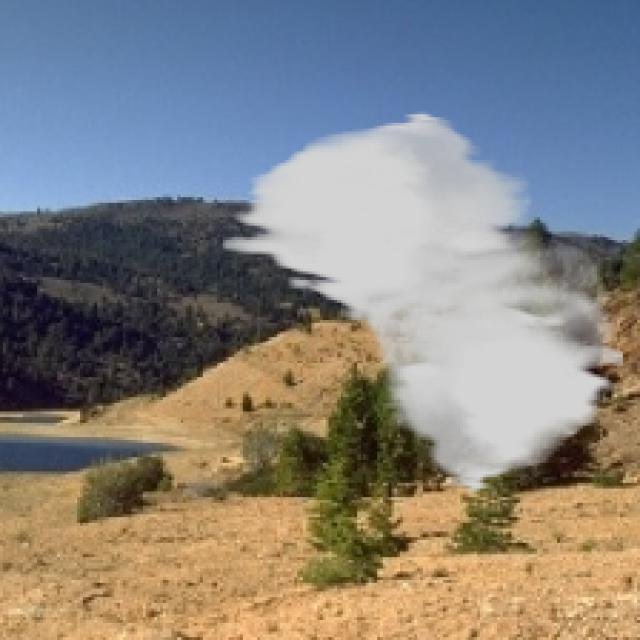Smoke: (223, 112, 626, 494)
